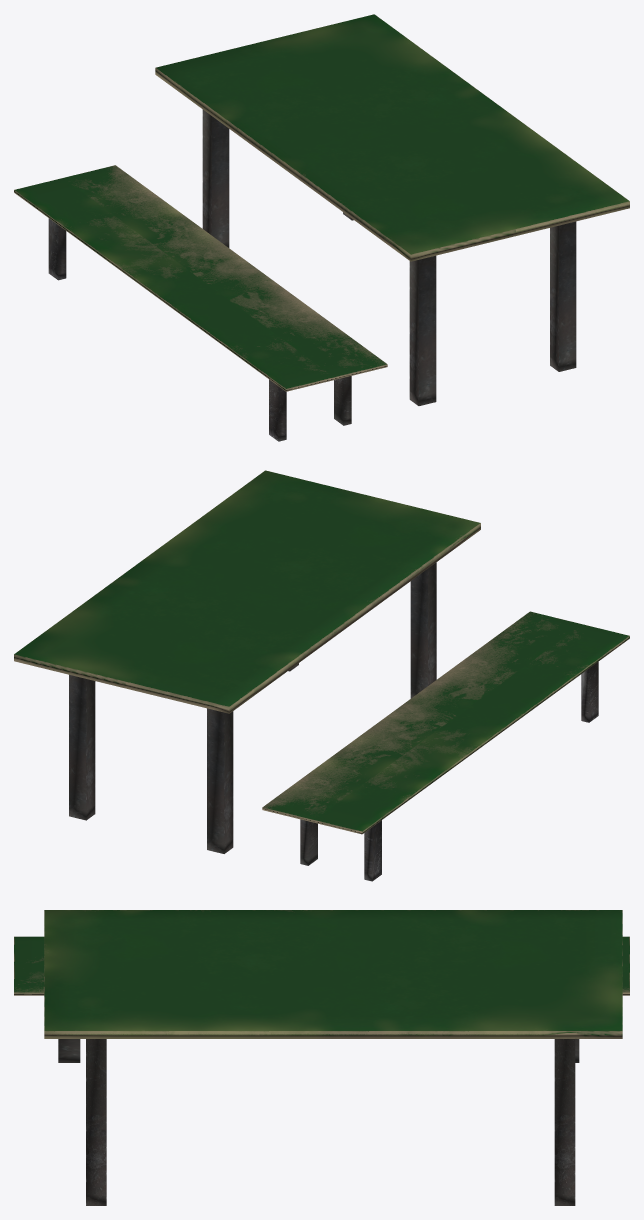
File: canteen_tablechair_set_final 1.fbx
3 views of the same model, one above another, from view 1: azimuth 30°, elevation 25°; view 2: azimuth 150°, elevation 25°; view 3: azimuth 270°, elevation 25° (orthographic). The views are drawn at different scales.
Parts seen in each view (by area): view 1: canteen_table, canteen_chair; view 2: canteen_table, canteen_chair; view 3: canteen_table, canteen_chair.
Boxes of the visible parts, x1=… form: canteen_table: x1=155, y1=14, x2=629, y2=405; canteen_chair: x1=14, y1=165, x2=387, y2=441; canteen_table: x1=14, y1=470, x2=480, y2=853; canteen_chair: x1=262, y1=611, x2=629, y2=881; canteen_table: x1=44, y1=910, x2=622, y2=1205; canteen_chair: x1=14, y1=936, x2=629, y2=1062.
Bounding box in the file's own units: 107 × 49.3 × 142.
Materials: 1 (1 with a texture image).
